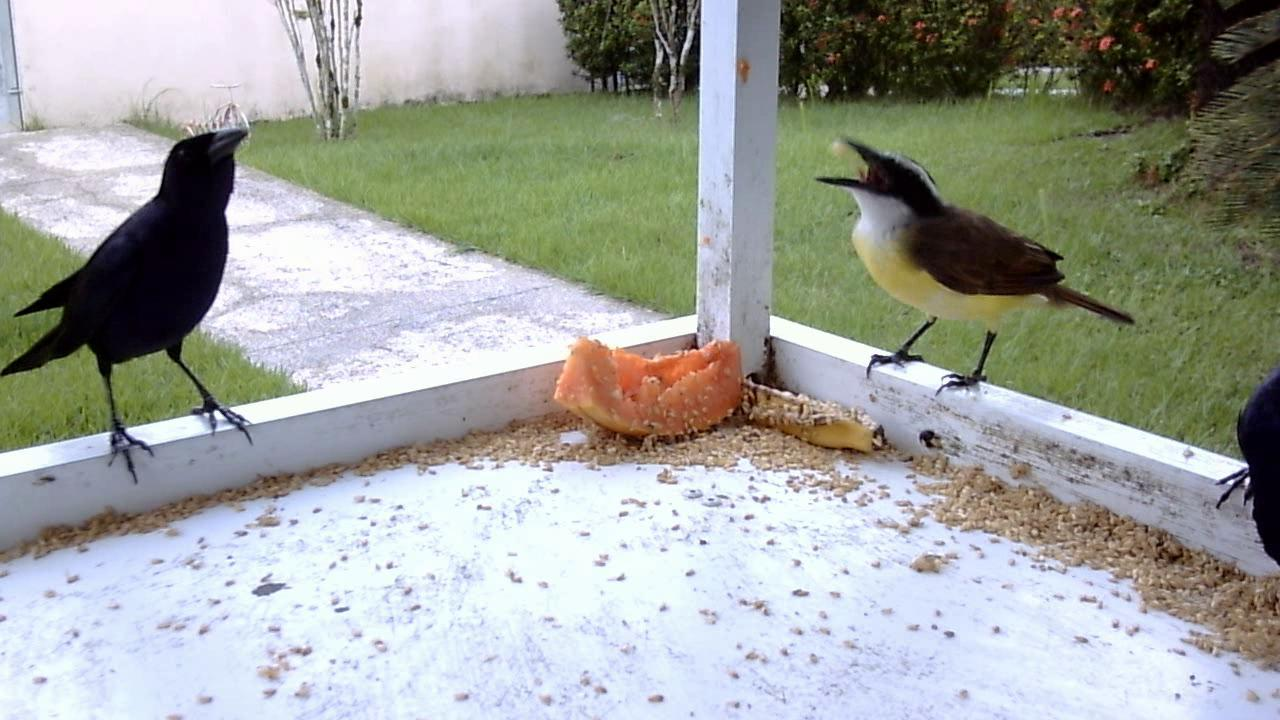bem_te_vi: (797, 130, 1142, 417)
chupim: (1, 108, 269, 496), (1198, 335, 1280, 573)
